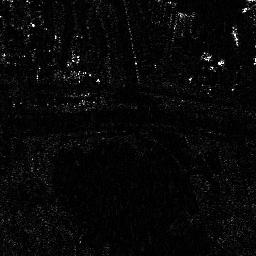ship: (230, 24, 239, 49)
